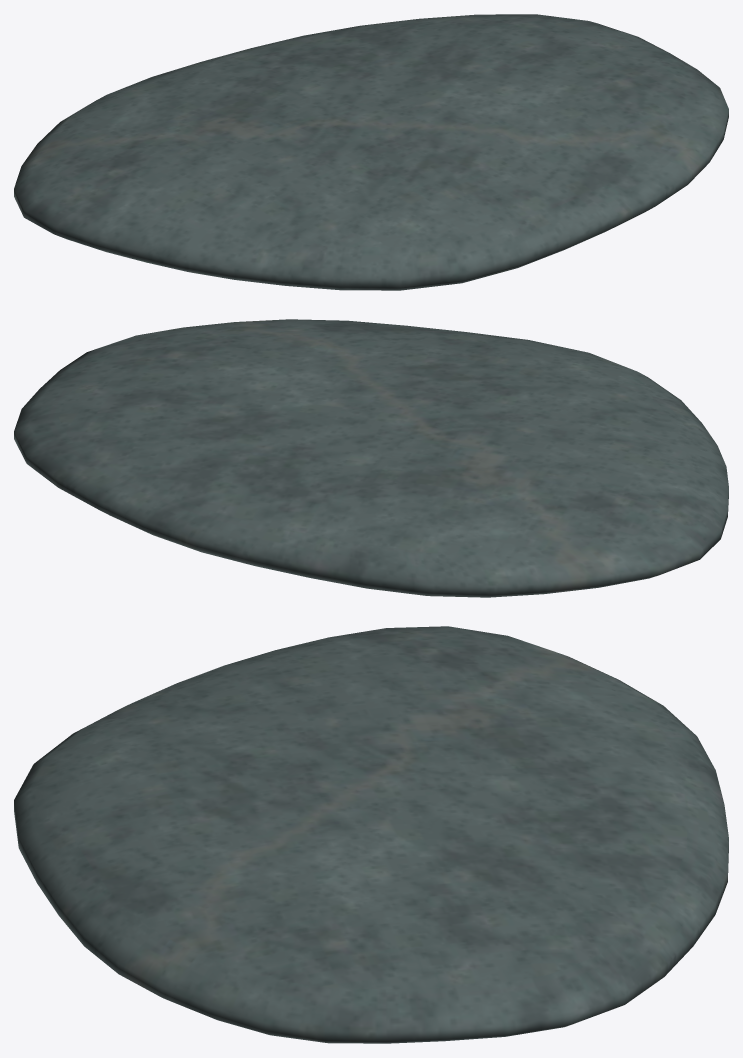
The model's file is standard_01.glb.
The picture shows the model from 3 angles, top to bottom: view 1: azimuth 30°, elevation 25°; view 2: azimuth 150°, elevation 25°; view 3: azimuth 270°, elevation 25°; orthographic projection. The views are drawn at different scales.
Visible parts, largest first — view 1: standard_01; view 2: standard_01; view 3: standard_01.
Boxes of the visible parts, x1,y1,x2,y2 form: standard_01: (14,14,728,290); standard_01: (14,319,728,597); standard_01: (14,626,728,1043).
Bounding box in the file's own units: 0.08 × 0.009 × 0.0598.
1 material, 1 textured.
